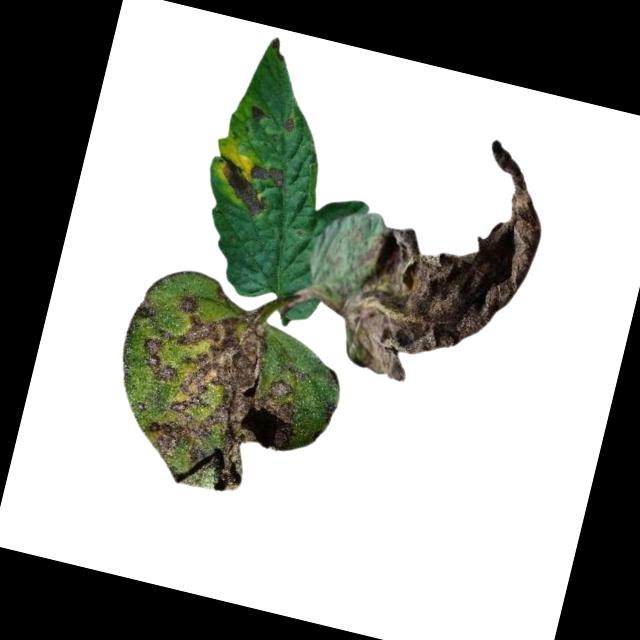Early_blight: (321, 110, 562, 405), (91, 278, 323, 509), (207, 147, 293, 222), (248, 102, 268, 122), (282, 114, 301, 133)
